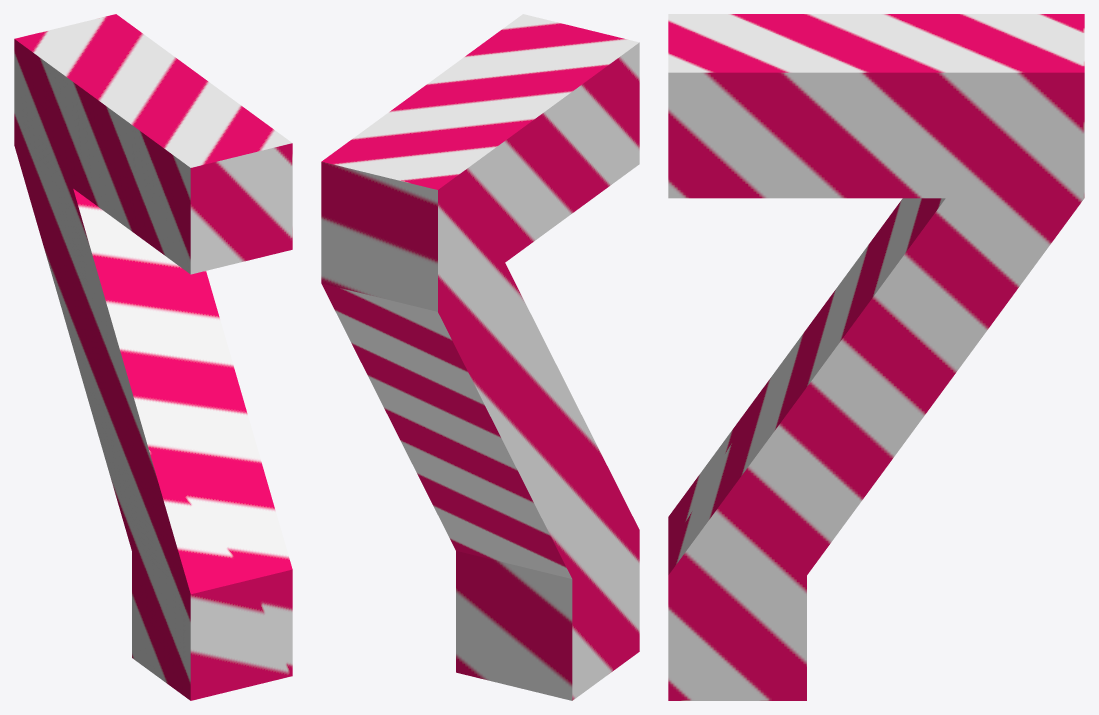
The model's file is Seven.fbx.
The picture shows the model from 3 angles, left to right: view 1: azimuth 30°, elevation 25°; view 2: azimuth 150°, elevation 25°; view 3: azimuth 270°, elevation 25°; orthographic projection. The views are drawn at different scales.
Visible parts, largest first — view 1: Cube; view 2: Cube; view 3: Cube.
Boxes of the visible parts, bbox=[...] form: Cube: bbox=[14, 14, 292, 700]; Cube: bbox=[321, 14, 639, 700]; Cube: bbox=[668, 14, 1084, 700].
Bounding box in the file's own units: 200 × 1000 × 600.
